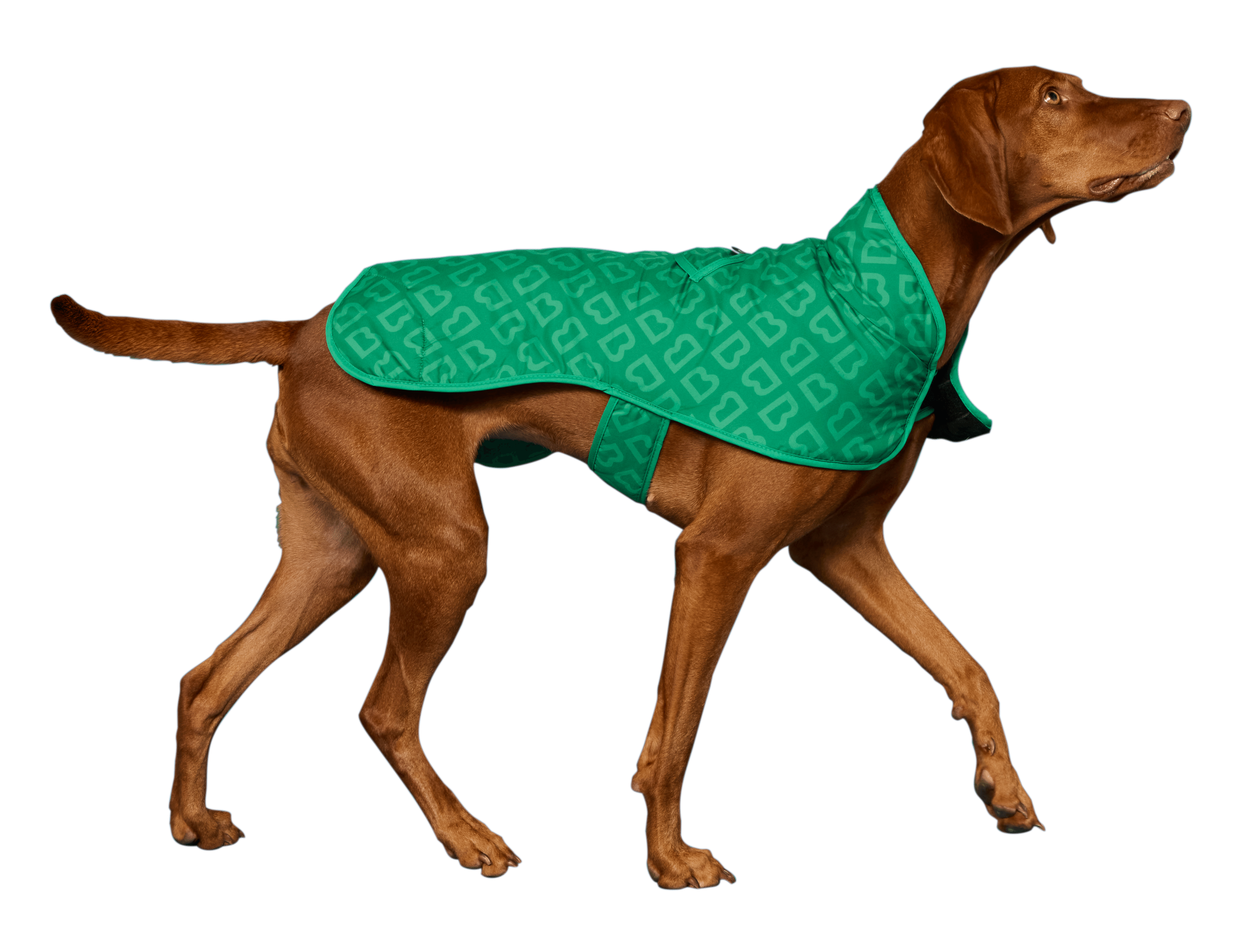Dog: (14, 44, 1199, 914)
